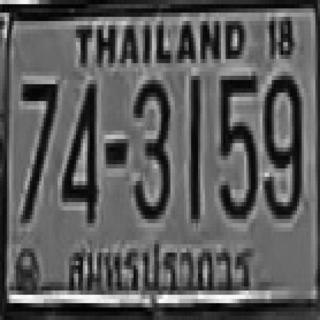N01: (188, 76, 199, 219)
N03: (132, 76, 169, 219)
N04: (60, 78, 97, 221)
N05: (219, 72, 255, 215)
N07: (20, 80, 56, 219)
N09: (262, 72, 299, 215)
P57: (65, 236, 259, 302)
